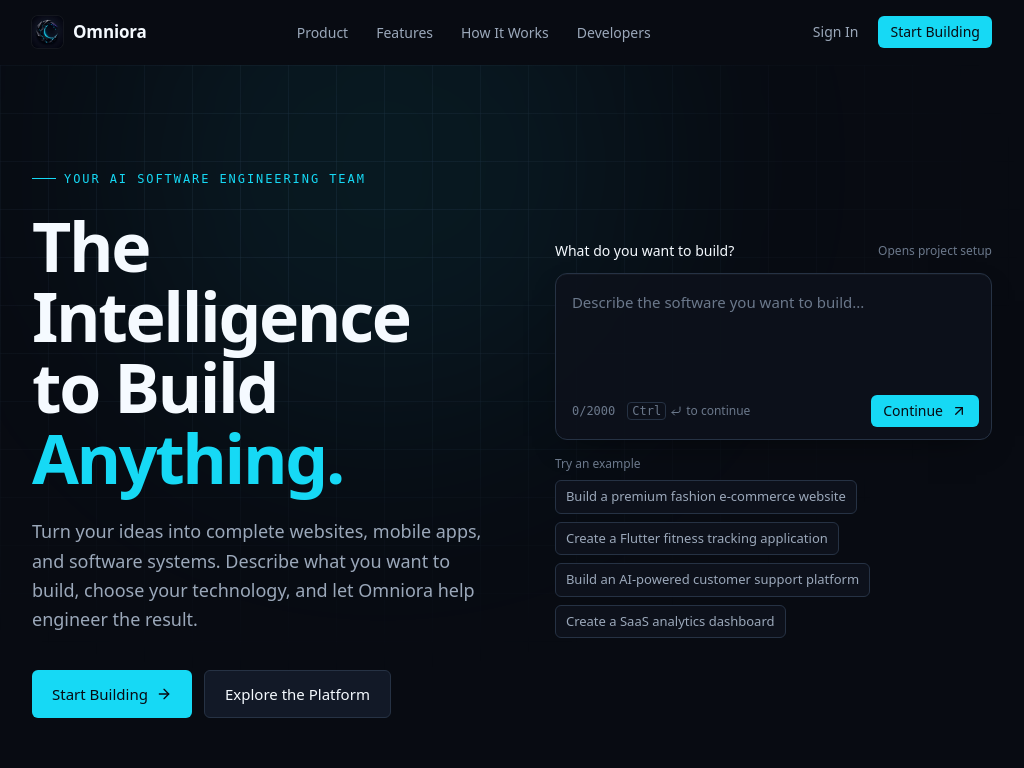
Landing prompt → wizard › carries the prompt into the wizard description
The image size is (1024, 768).
Click the button "Create a SaaS analytics dashboard".
click(670, 622)  # box x1=555 y1=605 x2=786 y2=638
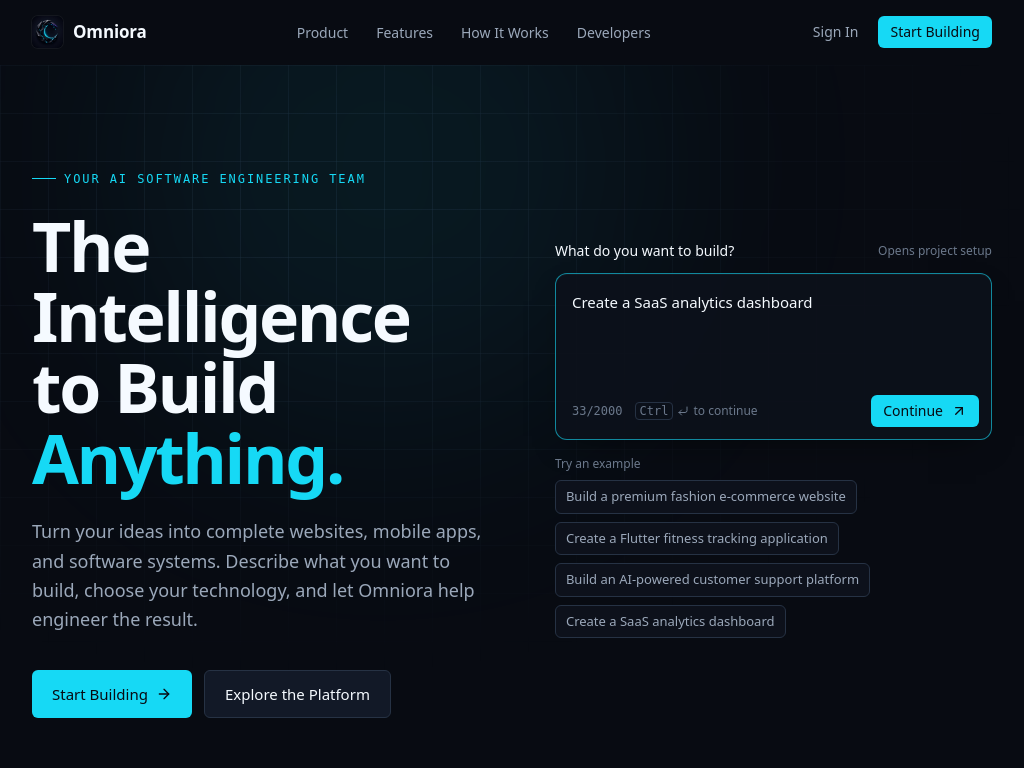
Click the button with aria-label "Continue to project setup".
click(925, 411)  # box x1=871 y1=395 x2=979 y2=427
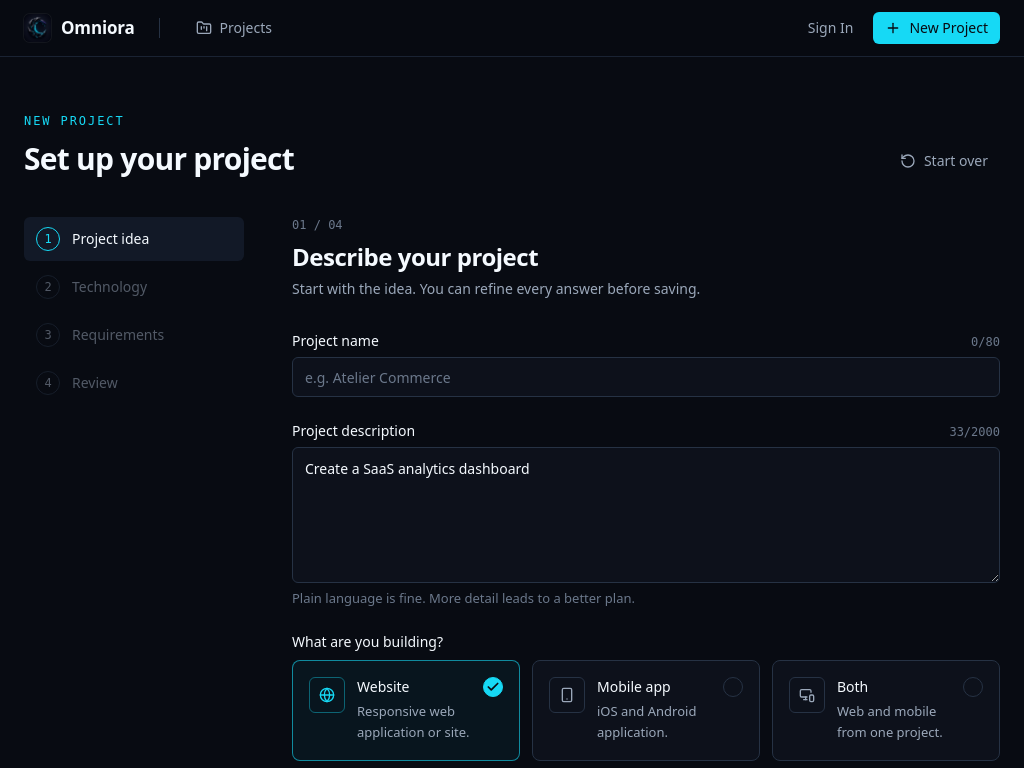
Now the text box labelled "Project description" holds "Create a SaaS analytics dashboard", box x1=292 y1=447 x2=1000 y2=583
